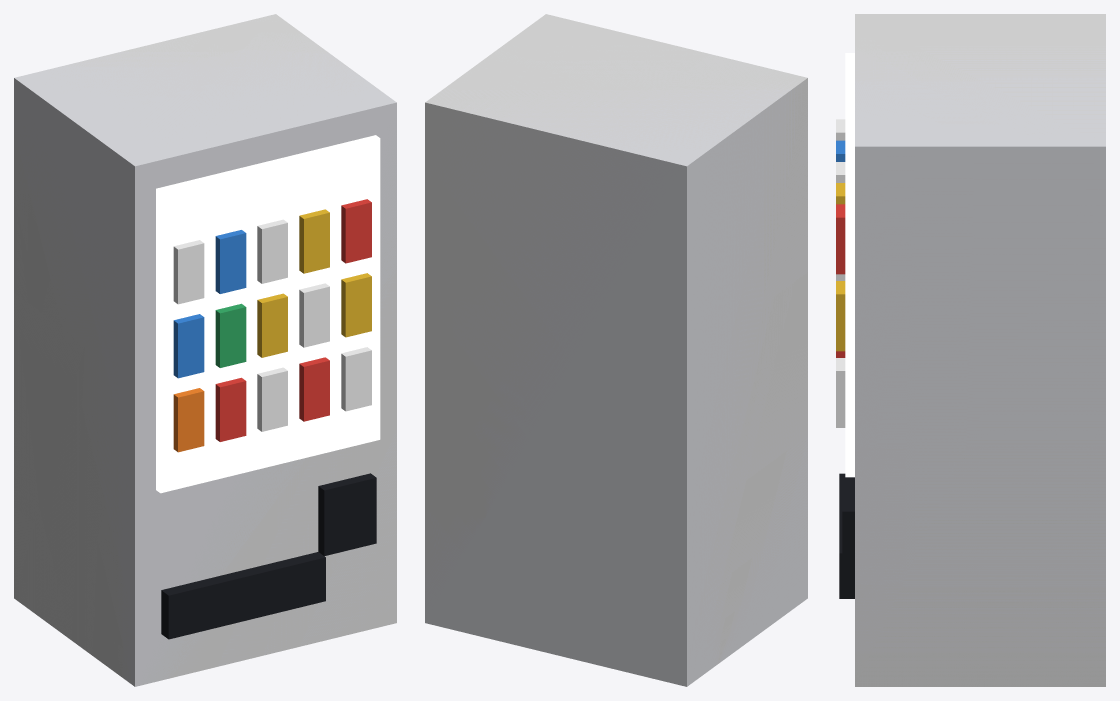
File: maquina_expendedora.glb
The picture shows the model from 3 angles, left to right: view 1: azimuth 30°, elevation 25°; view 2: azimuth 150°, elevation 25°; view 3: azimuth 270°, elevation 25°; orthographic projection. The views are drawn at different scales.
Parts seen in each view (by area): view 1: maquina_expendedora_Malla, COL_0; view 2: maquina_expendedora_Malla, COL_0; view 3: maquina_expendedora_Malla, COL_0.
Part boxes in pixels (bbox=[...]): maquina_expendedora_Malla: bbox=[14, 15, 396, 686]; COL_0: bbox=[14, 14, 396, 685]; maquina_expendedora_Malla: bbox=[425, 45, 807, 686]; COL_0: bbox=[425, 14, 807, 671]; maquina_expendedora_Malla: bbox=[836, 40, 1105, 686]; COL_0: bbox=[855, 14, 1105, 686].
Size of the model in its own units: 1 by 1.9 by 0.86.
